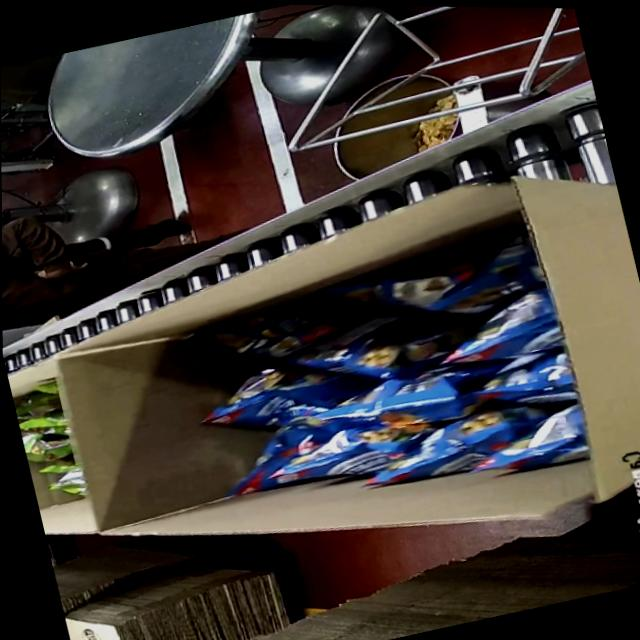PAPRIKA: (186, 222, 591, 537)
